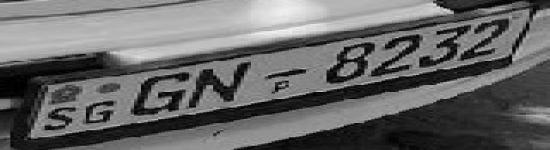2: (365, 28, 432, 80), (452, 12, 516, 66)
3: (407, 19, 481, 75)
8: (311, 37, 380, 91)
G: (126, 67, 193, 122), (81, 98, 121, 125), (258, 65, 318, 83)
N: (182, 57, 257, 111)
S: (41, 106, 80, 132)
